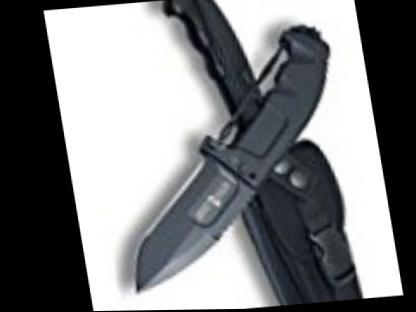knife: (105, 142, 270, 298)
